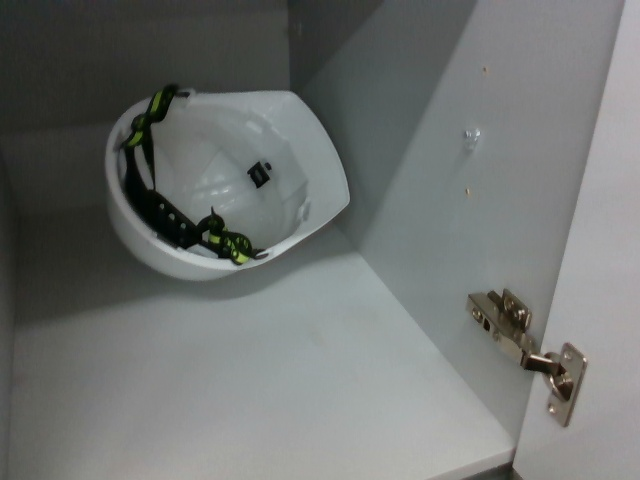helmet: (97, 73, 355, 286)
